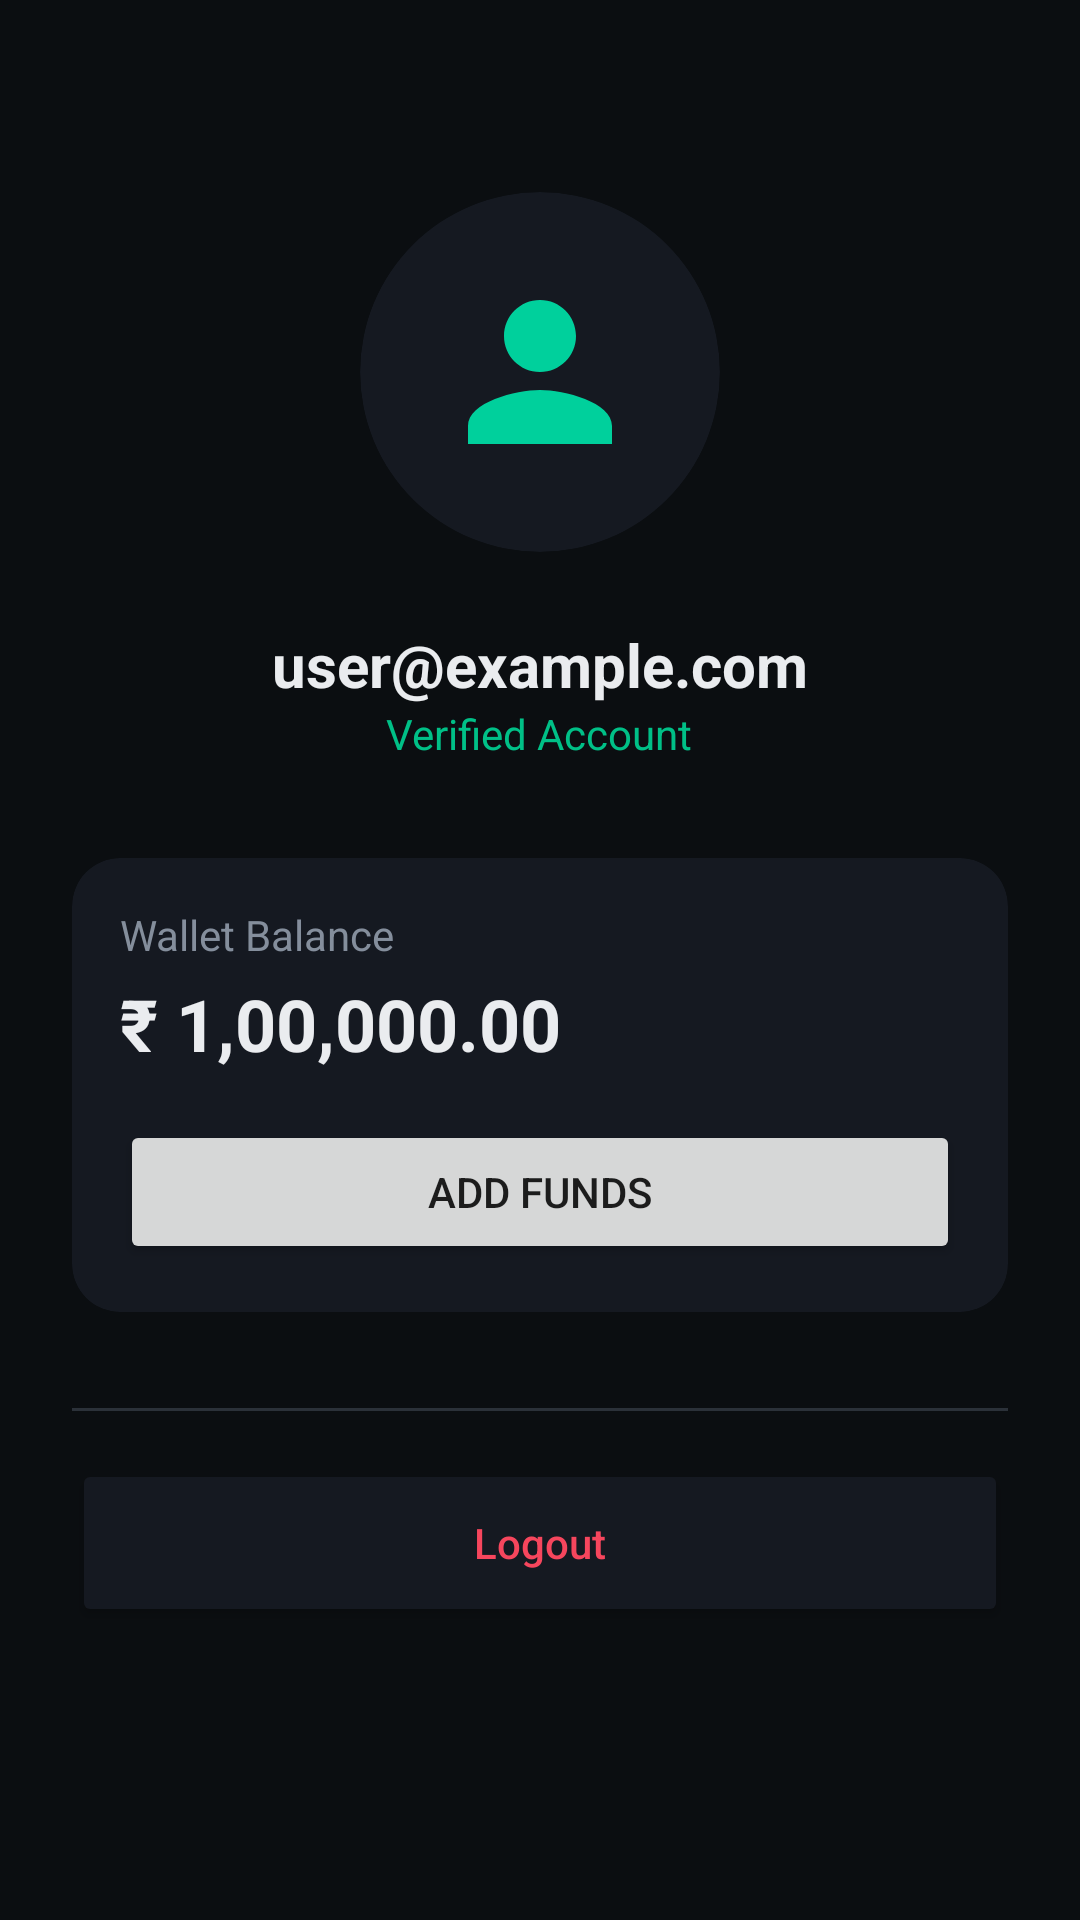

Icon click points for this 1080w x 1920h phone screenshot, format point (x, y):
profile: point (540, 372)
